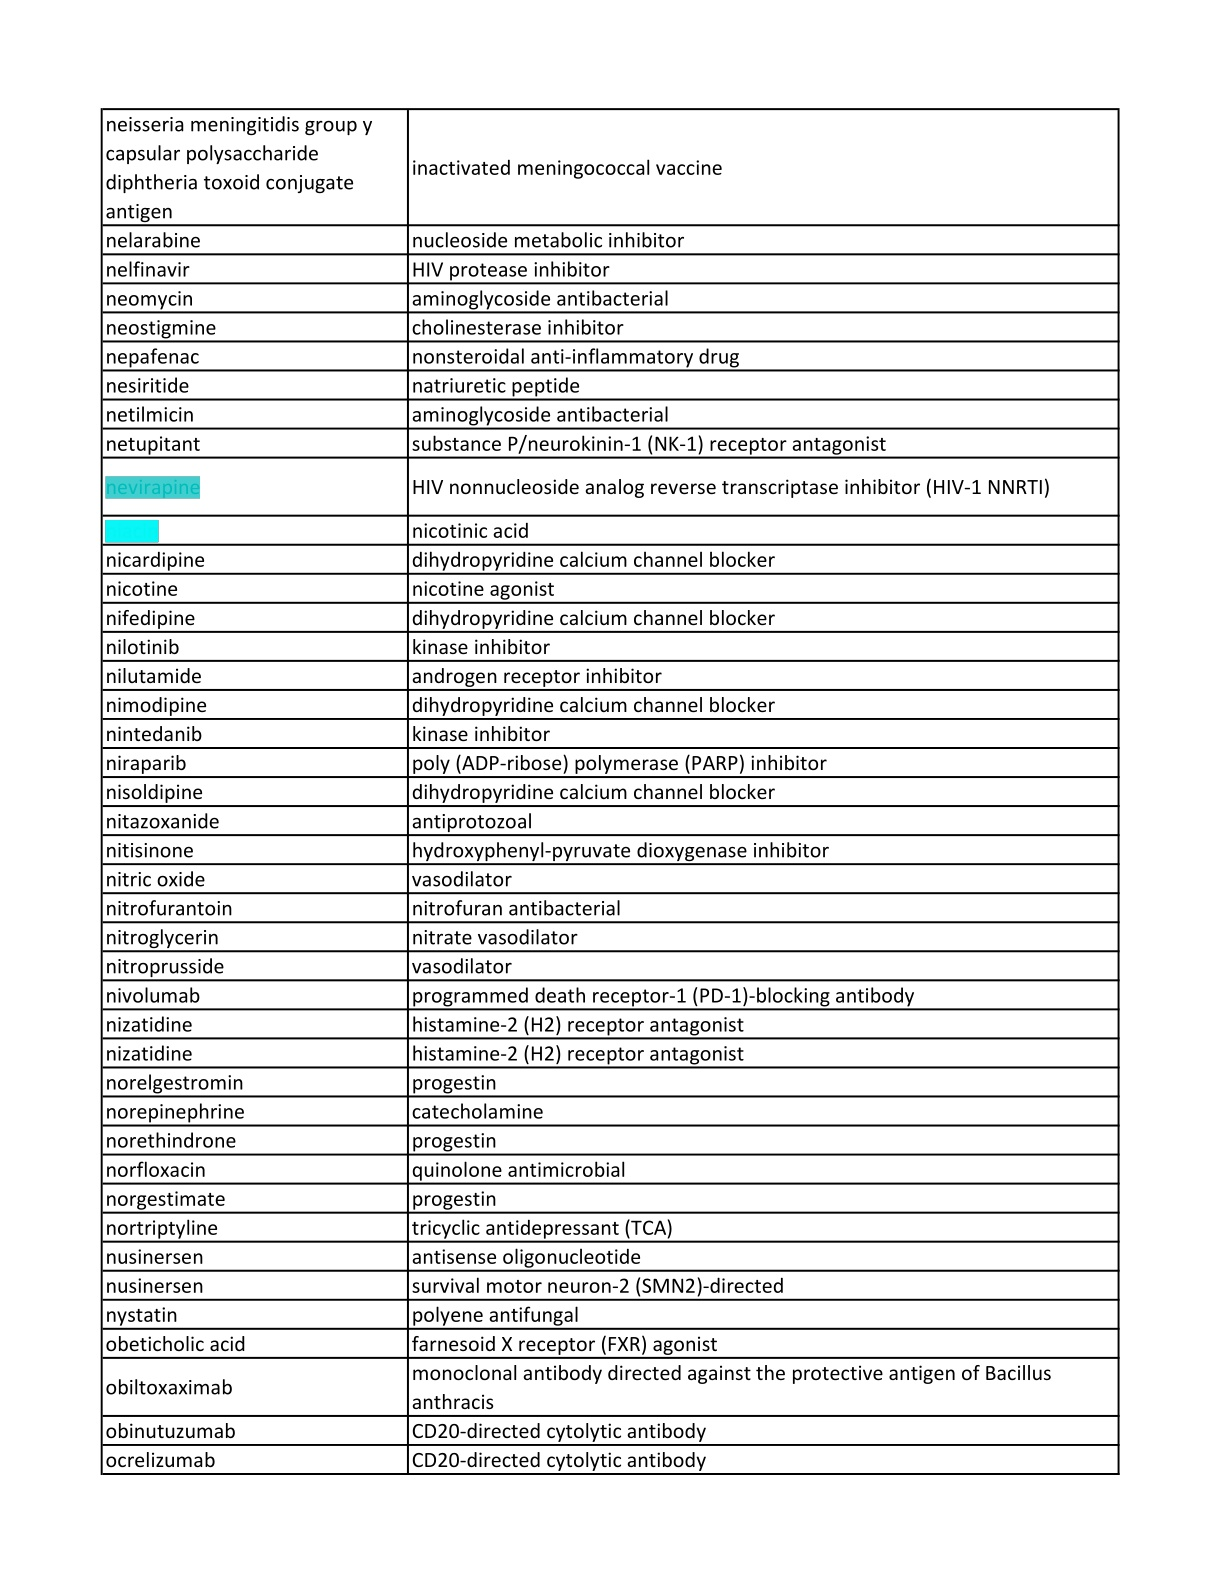full_lined: (100, 108, 1120, 1476)
